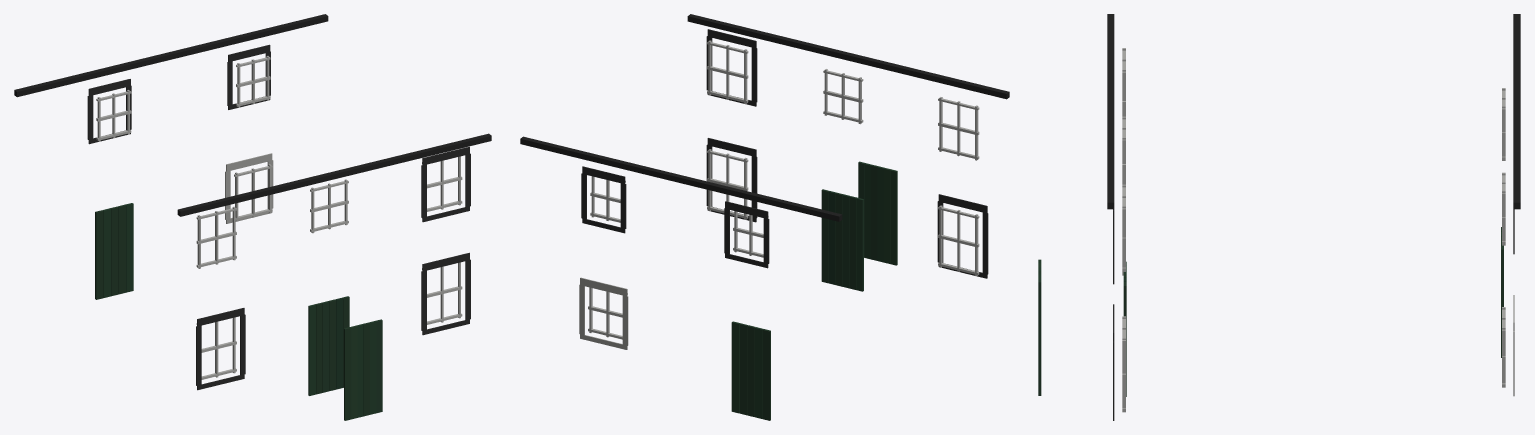
File: SM_Bld_173_Wood.glb
The picture shows the model from 3 angles, left to right: view 1: azimuth 30°, elevation 25°; view 2: azimuth 150°, elevation 25°; view 3: azimuth 270°, elevation 25°; orthographic projection. The views are drawn at different scales.
Visible parts, largest first — view 1: SM_Bld_173_Wood; view 2: SM_Bld_173_Wood; view 3: SM_Bld_173_Wood.
Part boxes in pixels (bbox=[...]): SM_Bld_173_Wood: bbox=[14, 14, 491, 420]; SM_Bld_173_Wood: bbox=[520, 14, 1009, 420]; SM_Bld_173_Wood: bbox=[1038, 14, 1520, 420].
Size of the model in its own units: 7.47 by 5.1 by 8.06.
